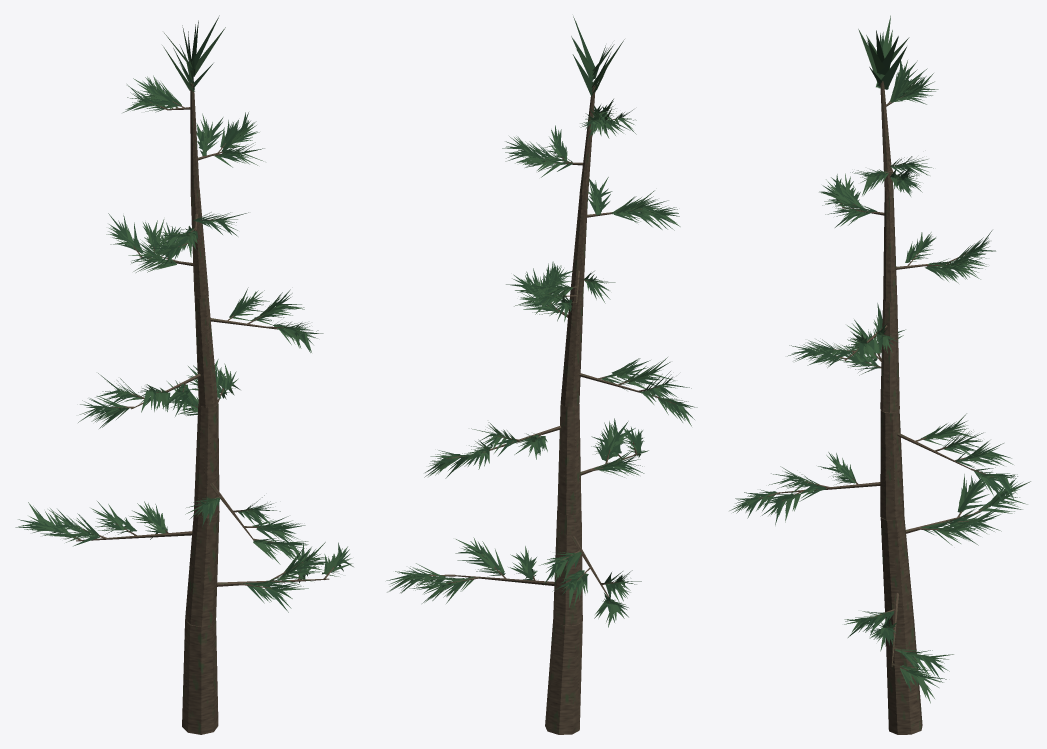
Rendered from detail_pine_lod.glb.
The picture shows the model from 3 angles, left to right: view 1: azimuth 30°, elevation 25°; view 2: azimuth 150°, elevation 25°; view 3: azimuth 270°, elevation 25°; orthographic projection. The views are drawn at different scales.
Parts seen in each view (by area): view 1: Cone; view 2: Cone; view 3: Cone.
Boxes of the visible parts, bbox=[...] form: Cone: bbox=[15, 15, 353, 734]; Cone: bbox=[386, 16, 697, 734]; Cone: bbox=[729, 15, 1030, 734].
Bounding box in the file's own units: 5.45 × 12.65 × 5.
3 materials, 1 textured.
